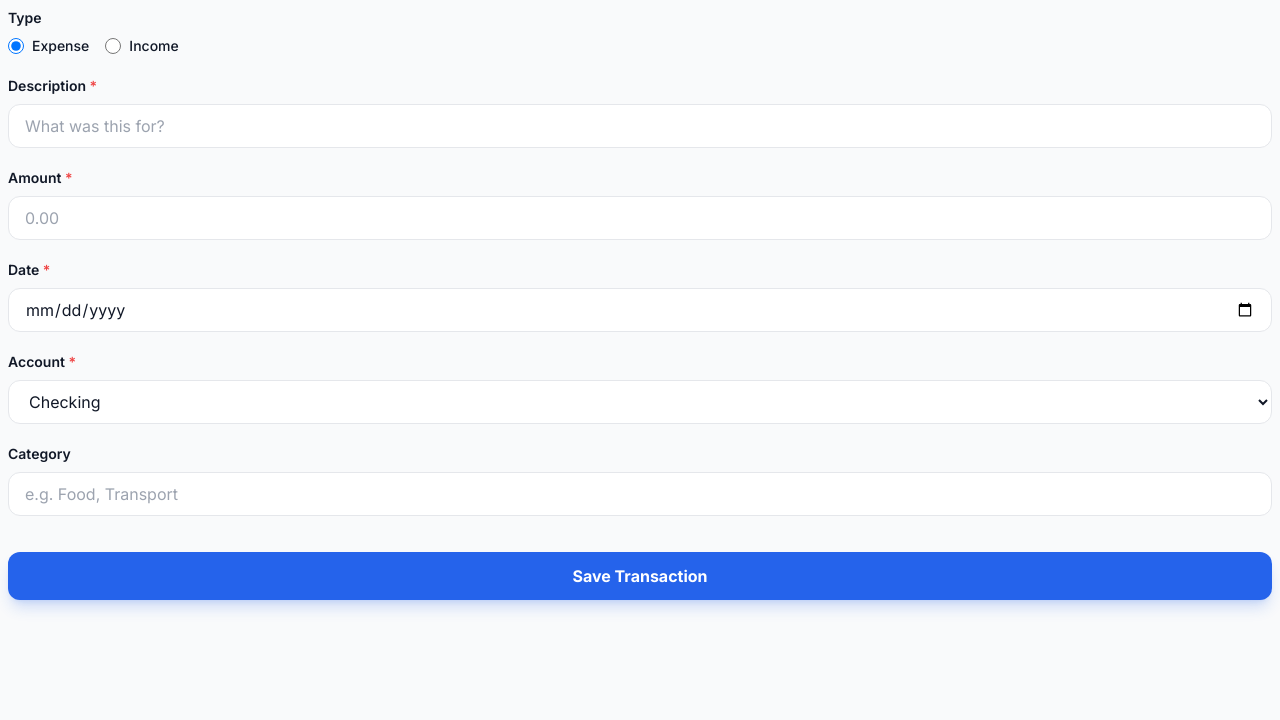
TransactionForm › validates amount is greater than zero
The image size is (1280, 720).
Type "0" into the number field labelled "Amount *" at (640, 218), box 8,196 -> 1272,240
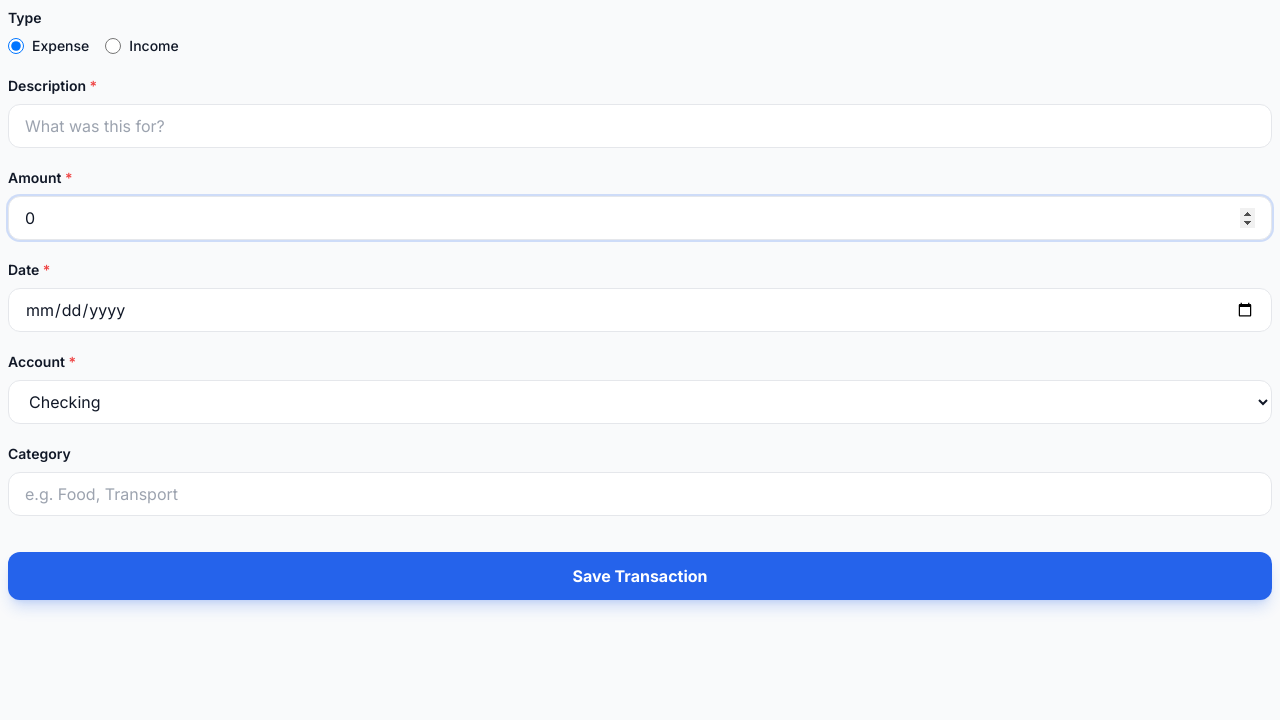
Press Tab
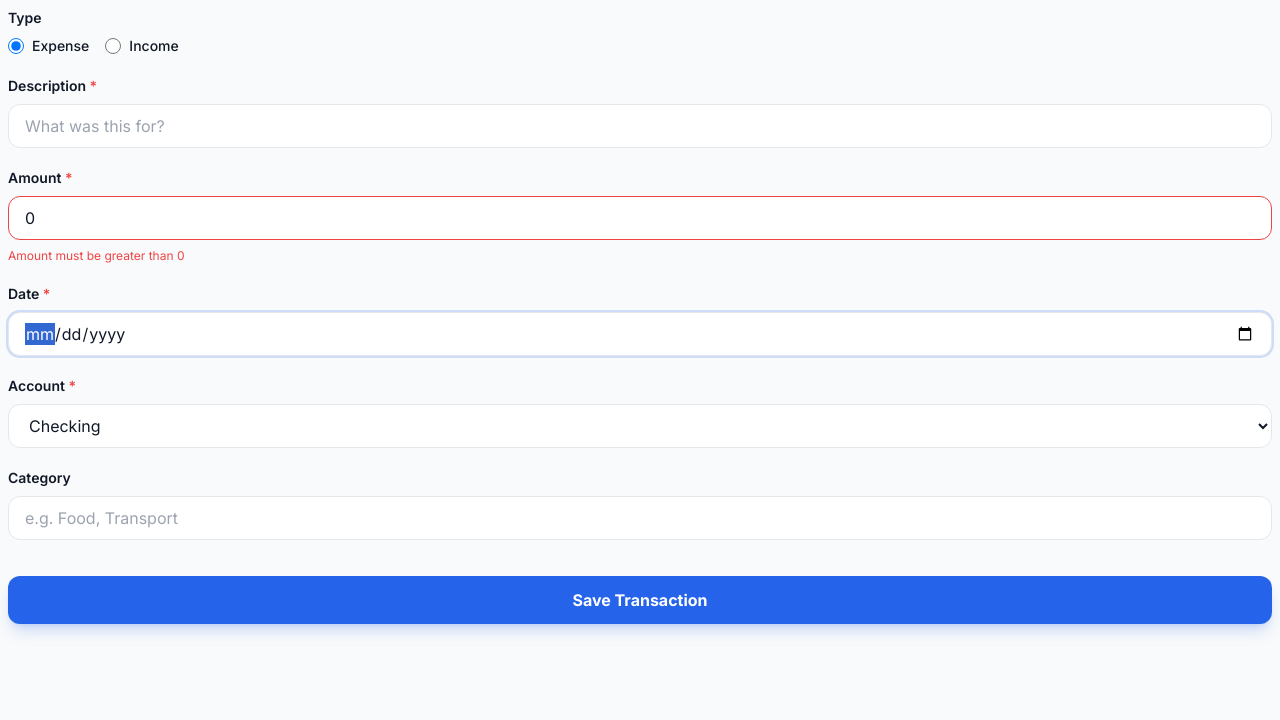
Now the text "Amount must be greater than 0" is shown, box 8,248 -> 184,263
